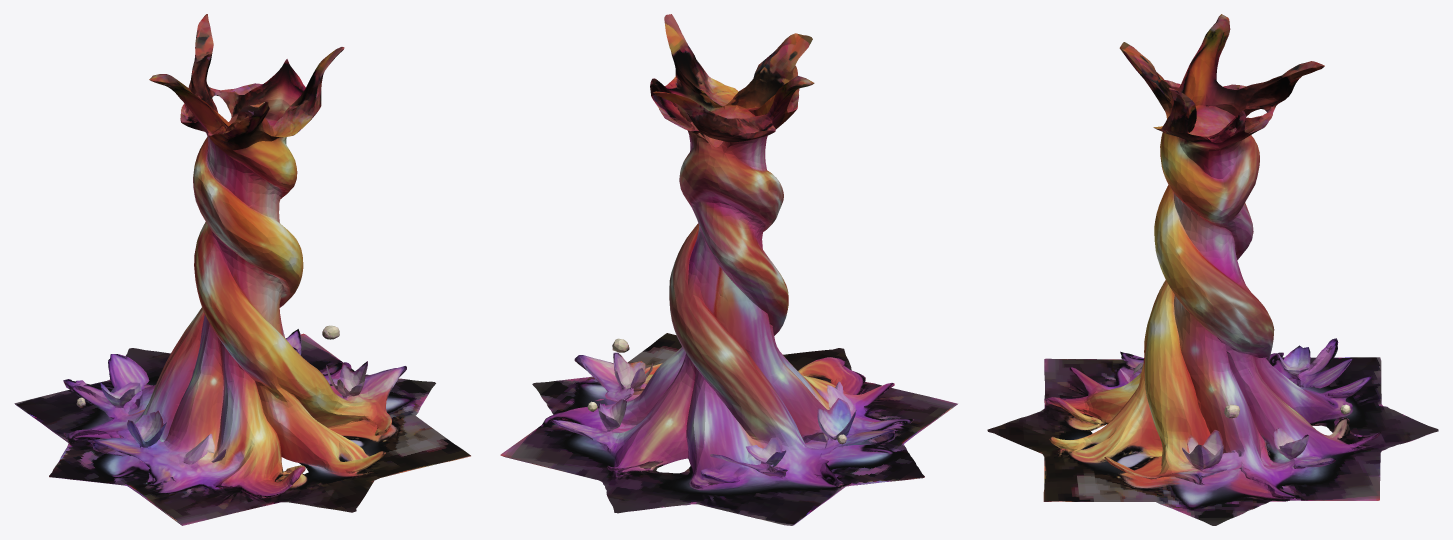
The model's file is env-tree-c.glb.
3 views of the same model, side by side, from view 1: azimuth 30°, elevation 25°; view 2: azimuth 150°, elevation 25°; view 3: azimuth 270°, elevation 25° (orthographic).
Parts seen in each view (by area): view 1: world; view 2: world; view 3: world.
Part boxes in pixels (bbox=[...]): world: bbox=[14, 14, 470, 525]; world: bbox=[500, 14, 957, 525]; world: bbox=[987, 14, 1438, 525].
Bounding box in the file's own units: 0.9993 × 0.9764 × 0.9998.
Materials: 1 (1 with a texture image).
